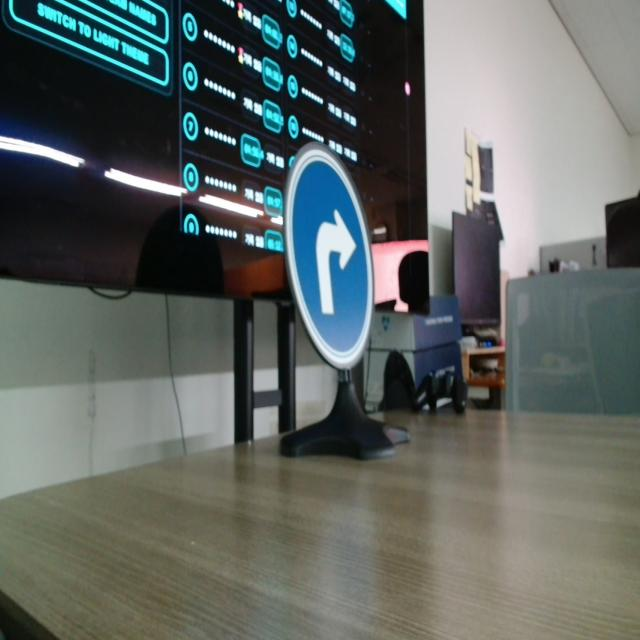right_dierection: (278, 142, 379, 371)
